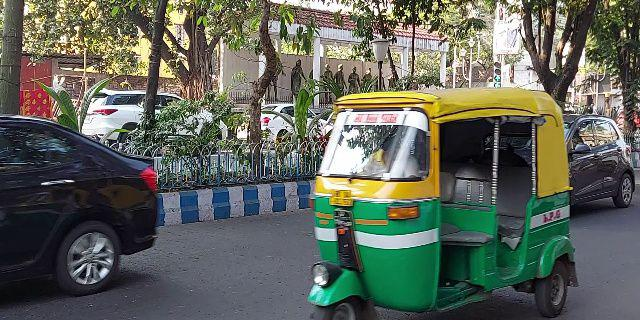Autorickshaw: (300, 88, 579, 320)
Car: (1, 113, 167, 295), (563, 114, 633, 214)
